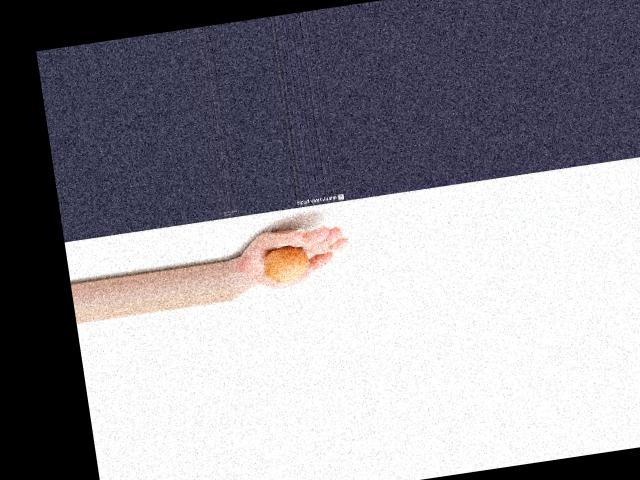egg: (260, 243, 310, 285)
